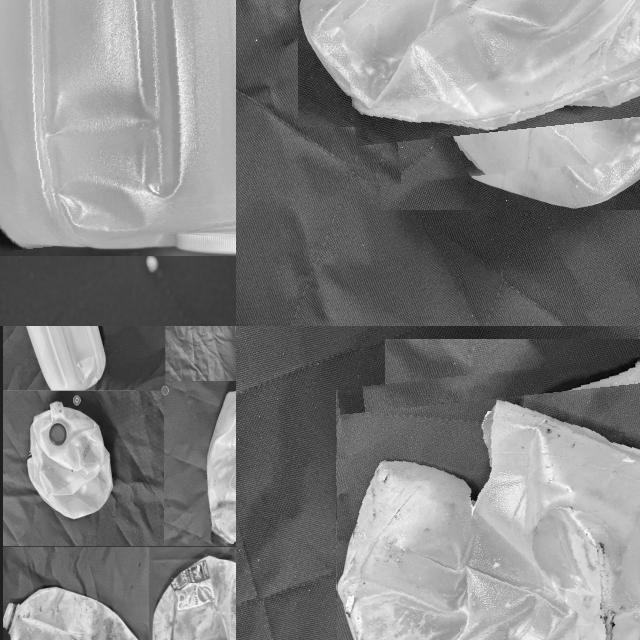milk-jug: (349, 353, 640, 640), (0, 0, 236, 244), (329, 0, 640, 178), (26, 402, 118, 520), (150, 557, 236, 640), (12, 587, 140, 640), (16, 326, 104, 394), (202, 386, 236, 543)
